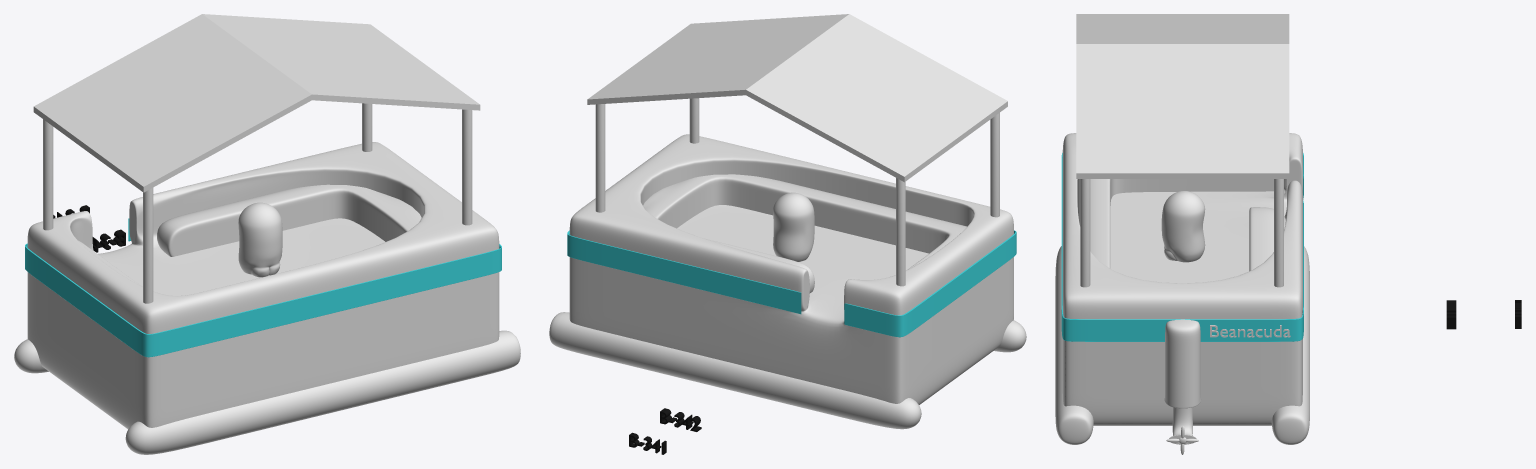
Rendered from PontoonStripe_BunkerNumbers.fbx.
The picture shows the model from 3 angles, left to right: view 1: azimuth 30°, elevation 25°; view 2: azimuth 150°, elevation 25°; view 3: azimuth 270°, elevation 25°; orthographic projection. The views are drawn at different scales.
Parts seen in each view (by area): view 1: Cube, Cube.003, Cube.007, Cube.002, Cube.001, Cylinder.003, Sphere, Cube.005; view 2: Cube, Cube.003, Cube.005, Cube.001, Cube.002, Cylinder.003, Sphere, Cube.007, Text.002; view 3: Cube, Cube.003, Cube.001, Cube.002, Cube.004, Sphere, Cube.007, Cube.005, Cylinder.003, Text.
Boxes of the visible parts, x1,y1,x2,y2 form: Cube: (27,142,499,429); Cube.003: (33,14,480,192); Cube.007: (125,330,520,454); Cube.002: (25,218,501,357); Cube.001: (78,184,421,286); Cylinder.003: (43,103,472,303); Sphere: (238,202,282,277); Cube.005: (14,339,48,373); Cube: (569,134,1013,404); Cube.003: (587,14,1007,182); Cube.005: (549,312,921,429); Cube.001: (643,174,966,293); Cube.002: (567,230,1016,337); Cylinder.003: (595,98,999,286); Sphere: (773,192,814,261); Cube.007: (994,320,1026,352); Text.002: (660,408,701,431); Cube: (1062,133,1302,425); Cube.003: (1076,14,1289,178); Cube.001: (1077,179,1285,271); Cube.002: (1061,153,1303,341); Cube.004: (1164,319,1201,444); Sphere: (1161,191,1205,262); Cube.007: (1055,246,1093,444); Cube.005: (1271,246,1309,444); Cylinder.003: (1080,179,1283,287); Text: (1210,325,1290,337).
Size of the model in its own units: 2315 by 1773 by 2412.
